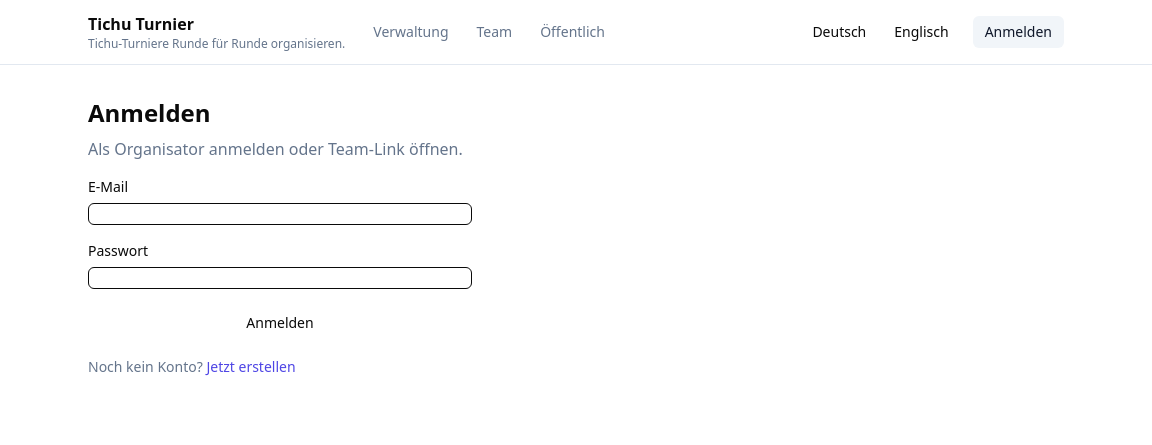
Test: admin auth flows › validates the login form before submitting
Click the button "Anmelden" at (280, 323), box [88, 305, 472, 341]
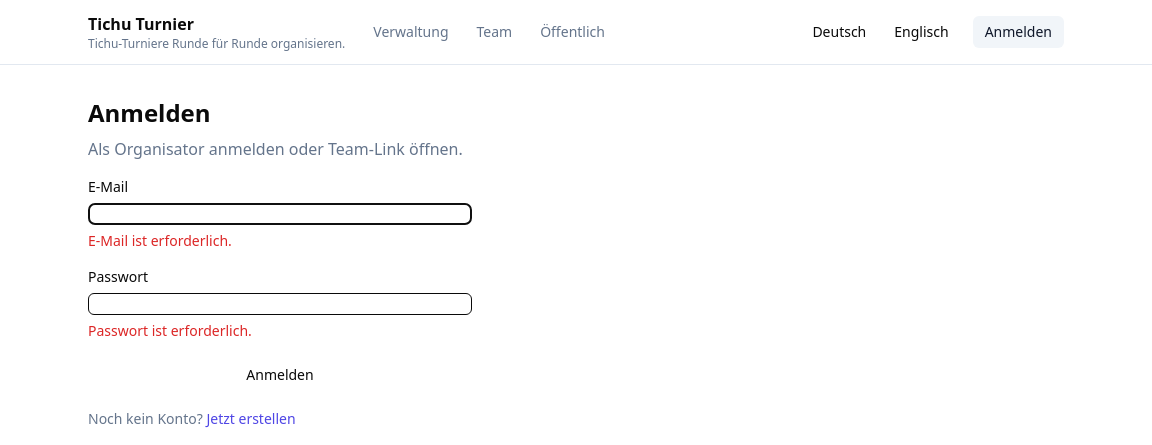
Check: the text "E-Mail ist erforderlich." is shown, box [88, 231, 232, 250]
Check: the text "Passwort ist erforderlich." is shown, box [88, 321, 252, 340]
